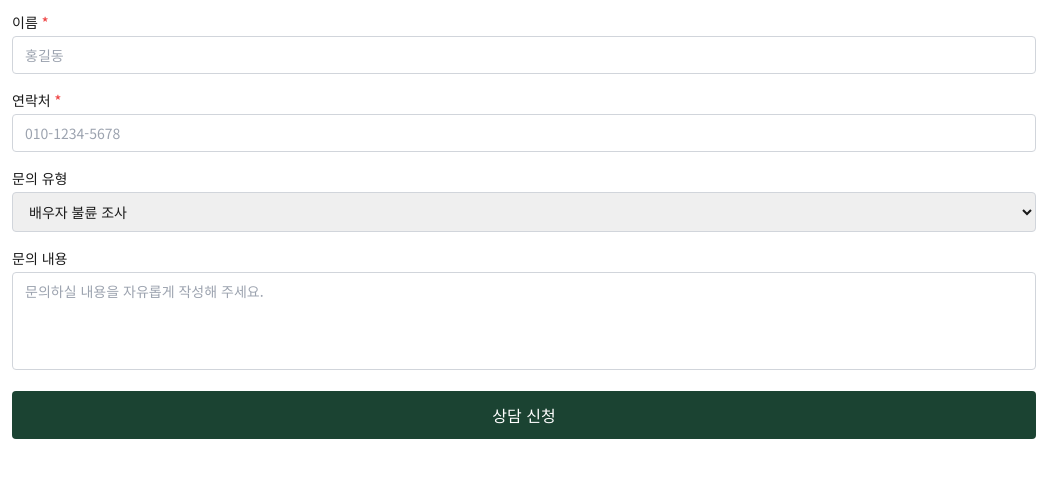
Scenario: ConsultForm 유효성 검사 › 연락처 형식이 맞지 않으면 에러를 표시한다
Type "1234" into the field labelled "연락처" at (524, 133), box 12,114 -> 1036,152
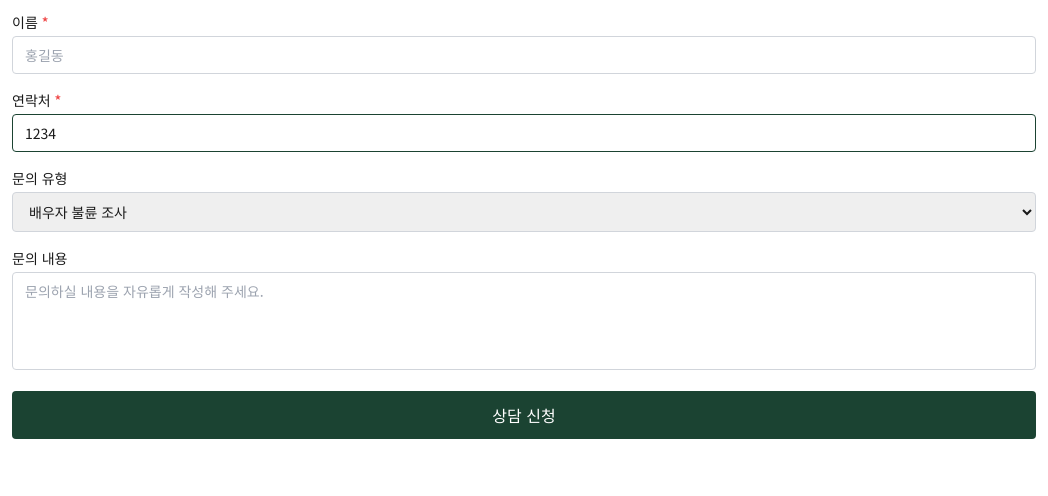
Leave the field labelled "연락처", box 12,114 -> 1036,152
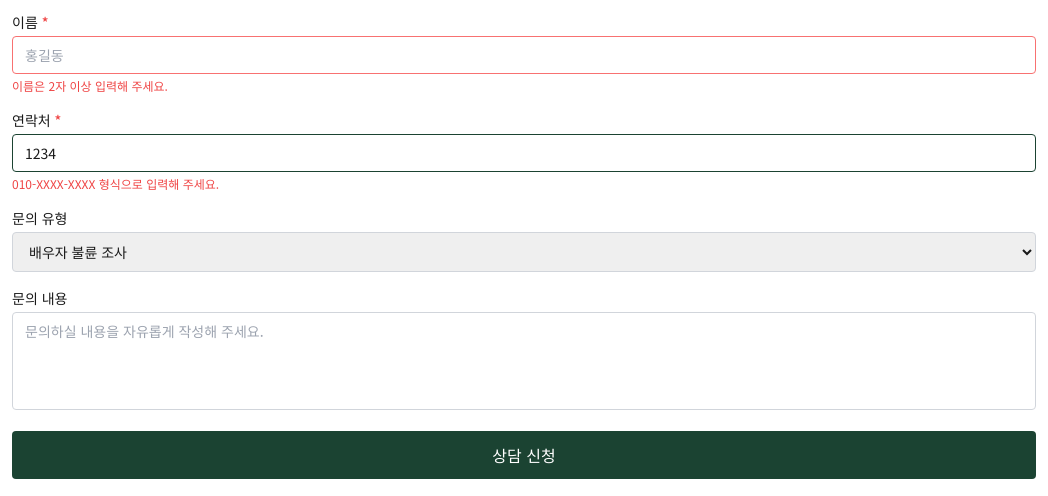
Check: the text "010-XXXX-XXXX 형식으로 입력해 주세요." is shown, box 12,175 -> 219,192
